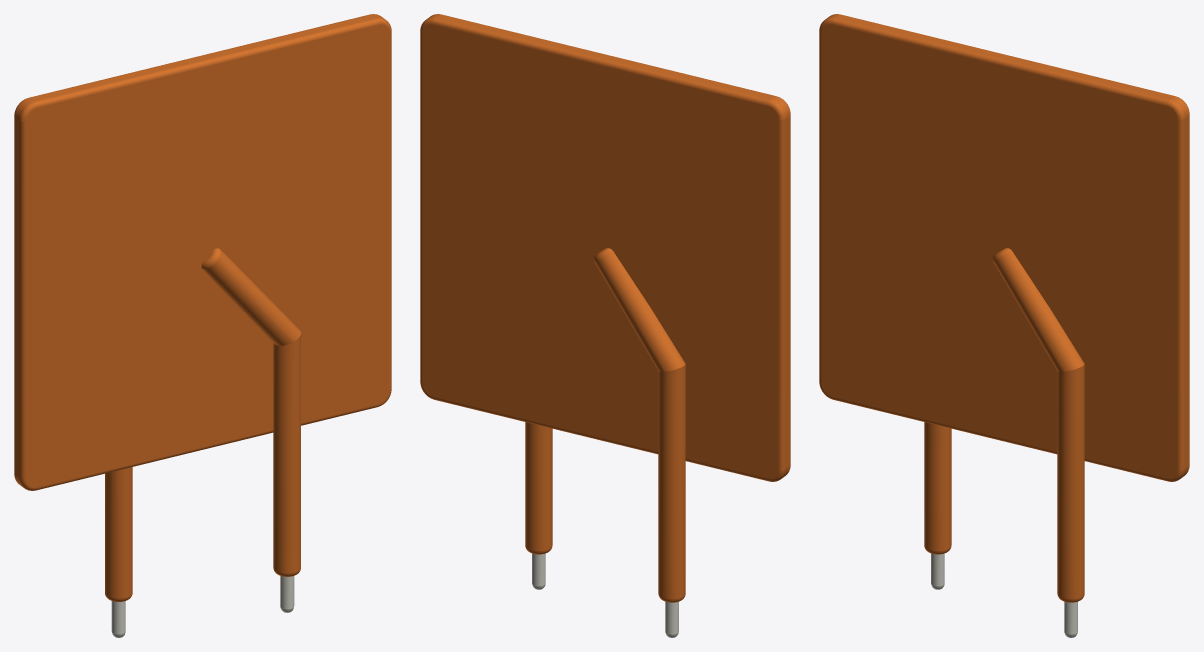
Rendered from kc-fuse_belfuse_0zre_0zre0200ff_l24.9mm_w6.1mm.glb.
The picture shows the model from 3 angles, left to right: view 1: azimuth 30°, elevation 25°; view 2: azimuth 150°, elevation 25°; view 3: azimuth 330°, elevation 25°; orthographic projection.
Visible parts, largest first — view 1: 0.5833333333333334_0.16666666666666666_0_0, 0.6666666666666666_0.6666666666666666_0.5833333333333334_0.8; view 2: 0.5833333333333334_0.16666666666666666_0_0, 0.6666666666666666_0.6666666666666666_0.5833333333333334_0.8; view 3: 0.5833333333333334_0.16666666666666666_0_0, 0.6666666666666666_0.6666666666666666_0.5833333333333334_0.8.
Boxes of the visible parts, box(x1,y1,x2,y2) form: 0.5833333333333334_0.16666666666666666_0_0: box(14, 14, 391, 601); 0.6666666666666666_0.6666666666666666_0.5833333333333334_0.8: box(111, 576, 294, 637); 0.5833333333333334_0.16666666666666666_0_0: box(420, 14, 790, 602); 0.6666666666666666_0.6666666666666666_0.5833333333333334_0.8: box(532, 553, 678, 637); 0.5833333333333334_0.16666666666666666_0_0: box(819, 14, 1189, 602); 0.6666666666666666_0.6666666666666666_0.5833333333333334_0.8: box(931, 553, 1077, 637).
Bounding box in the file's own units: 2.49 × 3.63 × 0.352.
